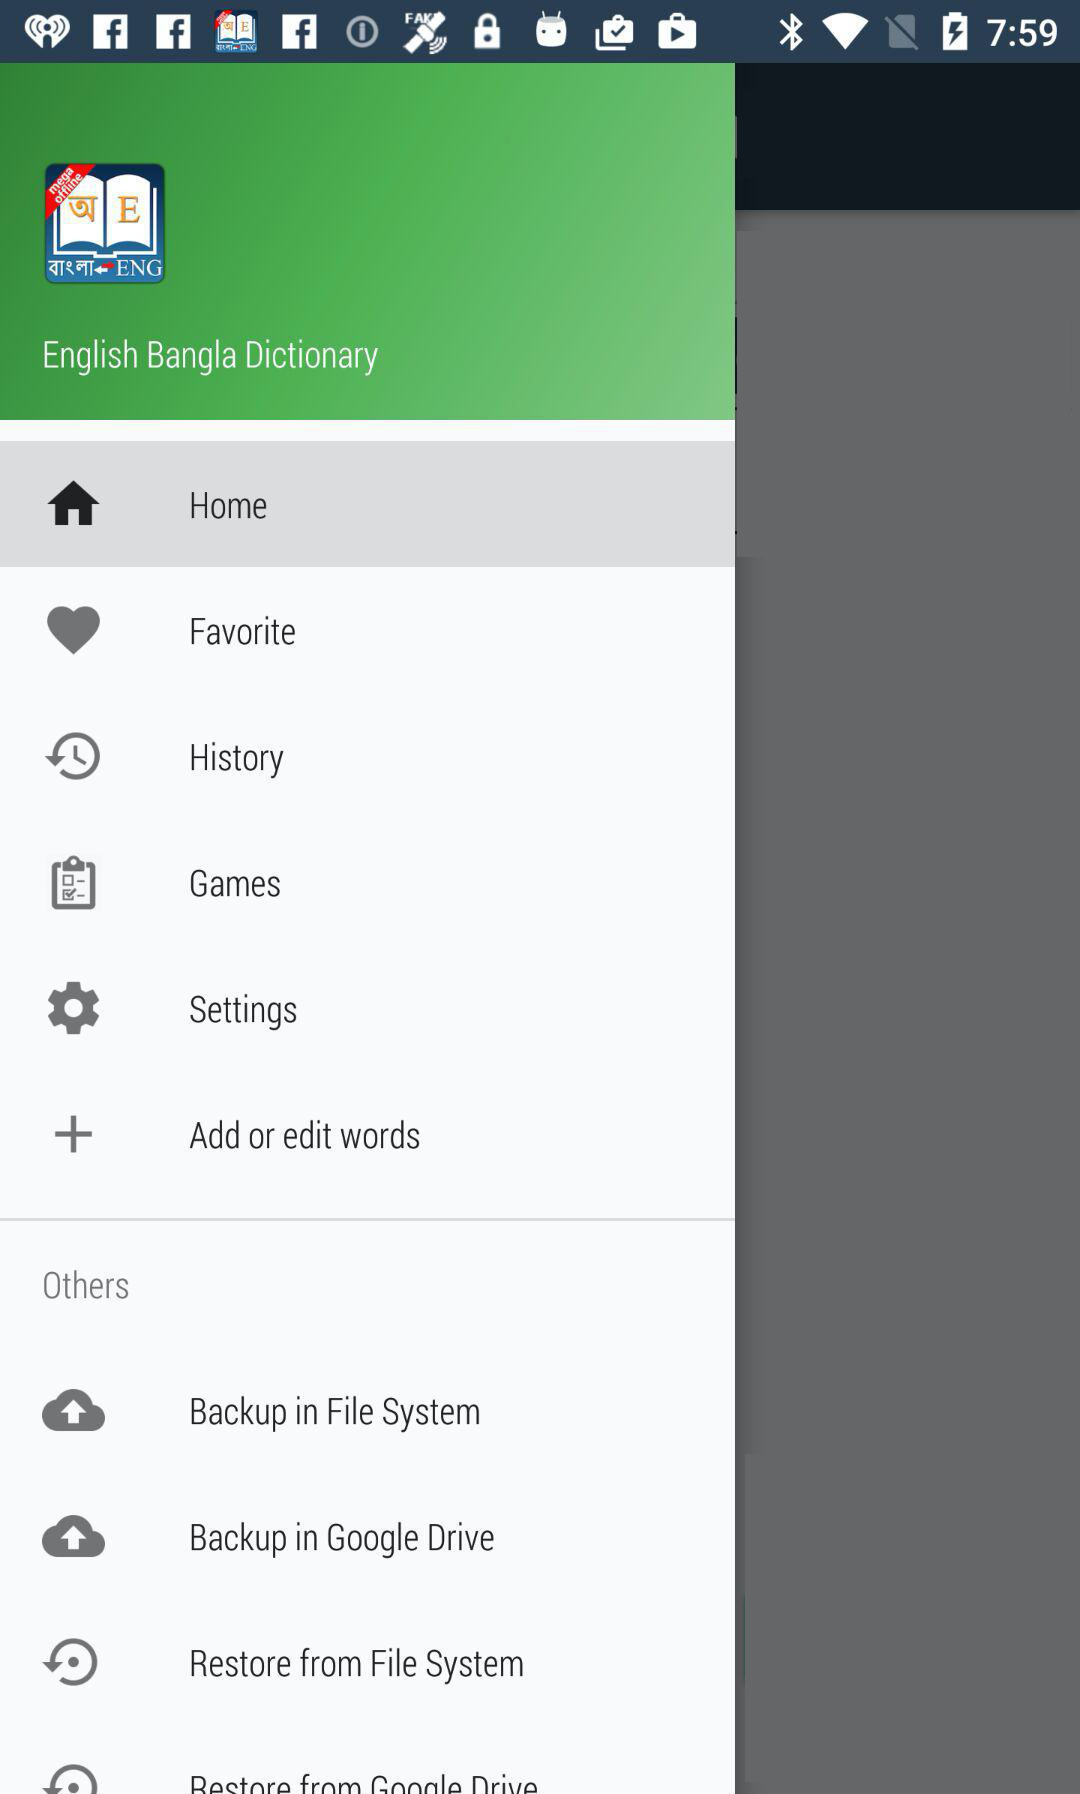Drawer: (1, 64, 735, 1794)
Icon: (44, 730, 102, 782), (42, 1513, 108, 1559), (47, 982, 102, 1035), (41, 1636, 100, 1686), (42, 1388, 108, 1433), (47, 605, 102, 656), (46, 479, 101, 528), (51, 855, 97, 912), (55, 1115, 95, 1155)
Image: (45, 163, 167, 286), (40, 1763, 97, 1794)
Text: (44, 337, 380, 378), (190, 1647, 525, 1686), (190, 1518, 497, 1559), (191, 1393, 482, 1433), (188, 1117, 421, 1151), (187, 1772, 538, 1794), (190, 993, 299, 1032), (190, 741, 286, 780), (191, 615, 299, 647), (191, 868, 282, 900), (42, 1269, 131, 1301), (190, 490, 269, 522)
UpperTaskBar: (1, 1, 1080, 64)
